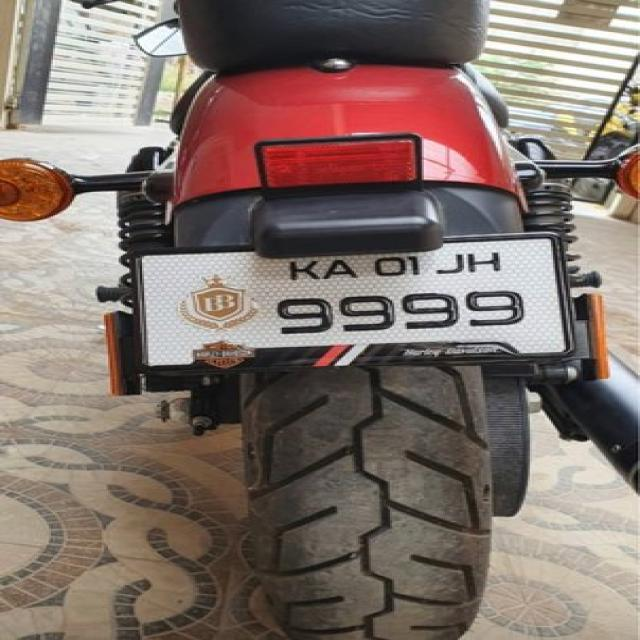number plate: (129, 230, 576, 372)
